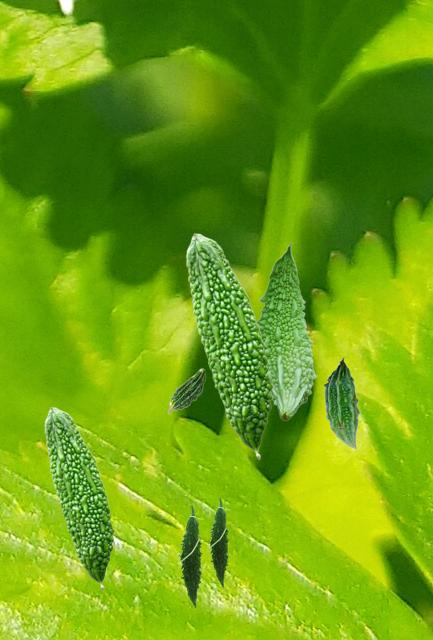ampalaya: (185, 233, 275, 460), (44, 406, 116, 590), (257, 241, 317, 421), (322, 356, 360, 450), (178, 504, 205, 608), (207, 496, 232, 588), (167, 368, 206, 414)
